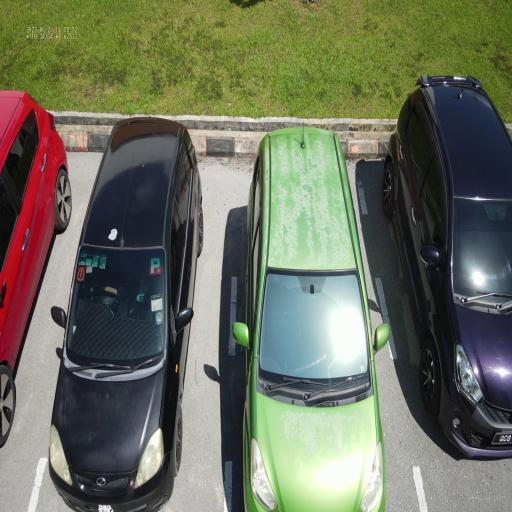Occupied: (20, 149, 251, 512), (220, 135, 437, 512)
